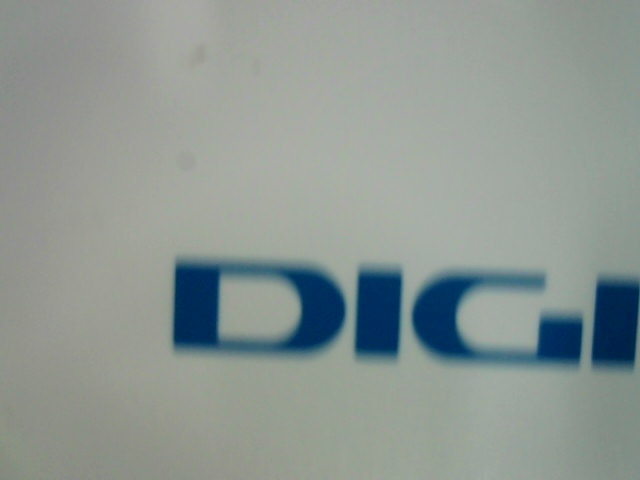BL_DIGI: (160, 237, 639, 375)
